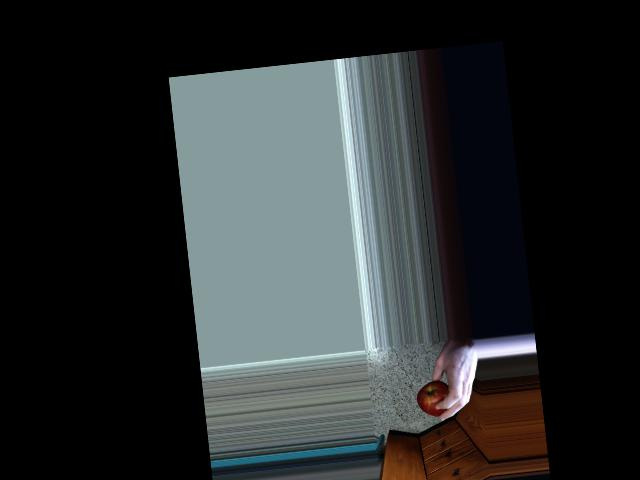apple: (414, 376, 458, 423)
